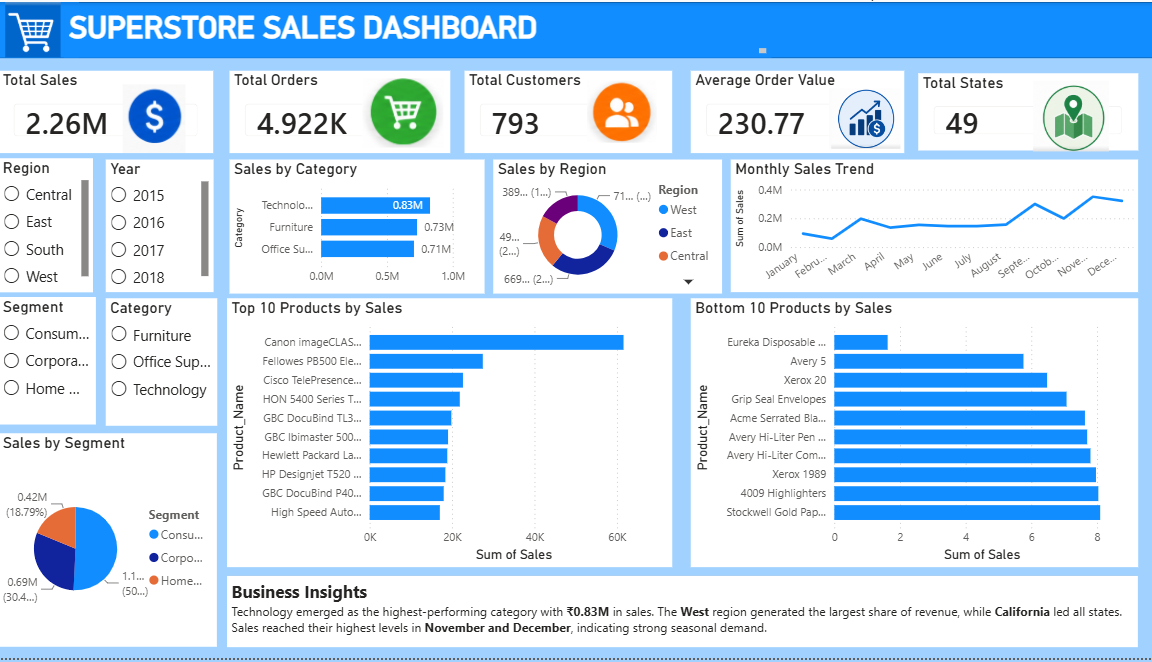

The dashboard page shown, as its layout file describes it:
{"tool":"powerbi","page":{"name":"Page 1","canvas":[1280,720],"ordinal":0},"visuals":[{"type":"shape","box":[0,0,1280,61.7],"z":0},{"type":"image","box":[0,0,101,61],"z":1000},{"type":"textbox","title":"SUPERSTORE  SALES  DASHBOARD ","box":[85.7,8.4,775.7,53.1],"z":2000},{"type":"listSlicer","title":" Segment","fields":{"Values":["superstore_dashboard (1).Segment"]},"box":[12.3,323.8,107,140],"z":3000},{"type":"barChart","title":" Sales by Category","fields":{"Y":["Sum(superstore_dashboard (1).Sales)"],"Category":["superstore_dashboard (1).Category"]},"box":[266.2,172.9,279.9,146.8],"z":4000},{"type":"pieChart","title":"Sales by Segment","fields":{"Y":["Sum(superstore_dashboard (1).Sales)"],"Category":["superstore_dashboard (1).Segment"]},"box":[12.3,473.4,240.1,234.6],"z":5000},{"type":"barChart","title":"Sales by State","fields":{"Category":["superstore_dashboard (1).State"],"Y":["Sum(superstore_dashboard (1).Sales)"]},"box":[387,359.5,63.1,71.4],"z":6000},{"type":"lineChart","title":"Monthly Sales Trend","fields":{"Y":["Sum(superstore_dashboard (1).Sales)"],"Category":["superstore_dashboard (1).Order_Date.Variation.Date Hierarchy.Month"]},"box":[816.5,172.9,447.3,145.5],"z":7000},{"type":"cardVisual","title":"Total Sales","fields":{"Data":["Sum(superstore_dashboard (1).Sales)"]},"box":[12,76,236,90],"z":8000},{"type":"cardVisual","title":"Total Orders","fields":{"Data":["Count(superstore_dashboard (1).Order_ID)"]},"box":[266,76,242,90],"z":9000},{"type":"cardVisual","title":"Total Customers","fields":{"Data":["Count(superstore_dashboard (1).Customer_ID)"]},"box":[524,76,228,90],"z":10000},{"type":"cardVisual","title":"Average Order Value","fields":{"Data":["Avg(superstore_dashboard (1).Sales)"]},"box":[772,76,234,90],"z":11000},{"type":"cardVisual","title":"Total States","fields":{"Data":["Count(superstore_dashboard (1).State)"]},"box":[1022.3,78.2,241.5,85.1],"z":12000},{"type":"image","box":[100.2,90.6,166,75.5],"z":13000},{"type":"image","box":[390,84,134,76],"z":14000},{"type":"image","box":[640,86,114,68],"z":15000},{"type":"image","box":[903.6,94.1,118.2,66.4],"z":16000},{"type":"image","box":[1116,86.9,148.4,77.2],"z":17000},{"type":"listSlicer","fields":{"Values":["superstore_dashboard (1).Region"]},"box":[12.3,171.5,104.3,146.8],"z":18000},{"type":"listSlicer","fields":{"Values":["superstore_dashboard (1).Category"]},"box":[130.4,325.2,122.1,140],"z":19000},{"type":"listSlicer","fields":{"Values":["superstore_dashboard (1).Year"]},"box":[130.4,172.9,118,145.5],"z":20000},{"type":"donutChart","title":"Sales by Region","fields":{"Y":["Sum(superstore_dashboard (1).Sales)"],"Category":["superstore_dashboard (1).Region"]},"box":[555.7,172.9,251.1,146.8],"z":21000},{"type":"barChart","title":"Top 10 Products by Sales","fields":{"Category":["superstore_dashboard (1).Product_Name"],"Y":["Sum(superstore_dashboard (1).Sales)"]},"box":[263.5,325.2,488.5,295],"z":22001},{"type":"barChart","title":"Bottom 10 Products by Sales","fields":{"Category":["superstore_dashboard (1).Product_Name"],"Y":["Sum(superstore_dashboard (1).Sales)"]},"box":[772.6,325.2,491.3,295],"z":22002},{"type":"shape","box":[263.5,629.8,1000.3,78.2],"z":22003},{"type":"textbox","box":[263.5,629.8,1000.3,78.2],"z":22004}]}

Visuals, with their boxes in screenshot pixels (x1, y1, x2, y2), scaled from the page's 1280x720 canvas onto the 1152x662 screenshot:
shape: 0,0,1151,57
image: 0,0,91,56
"SUPERSTORE  SALES  DASHBOARD " textbox: 77,8,775,57
" Segment" listSlicer: 11,298,107,426
" Sales by Category" barChart: 240,159,491,294
"Sales by Segment" pieChart: 11,435,227,651
"Sales by State" barChart: 348,331,405,396
"Monthly Sales Trend" lineChart: 735,159,1137,293
"Total Sales" cardVisual: 11,70,223,153
"Total Orders" cardVisual: 239,70,457,153
"Total Customers" cardVisual: 472,70,677,153
"Average Order Value" cardVisual: 695,70,905,153
"Total States" cardVisual: 920,72,1137,150
image: 90,83,240,153
image: 351,77,472,147
image: 576,79,679,142
image: 813,87,920,148
image: 1004,80,1138,151
listSlicer - superstore_dashboard (1).Region: 11,158,105,293
listSlicer - superstore_dashboard (1).Category: 117,299,227,428
listSlicer - superstore_dashboard (1).Year: 117,159,224,293
"Sales by Region" donutChart: 500,159,726,294
"Top 10 Products by Sales" barChart: 237,299,677,570
"Bottom 10 Products by Sales" barChart: 695,299,1138,570
shape: 237,579,1137,651
textbox: 237,579,1137,651
